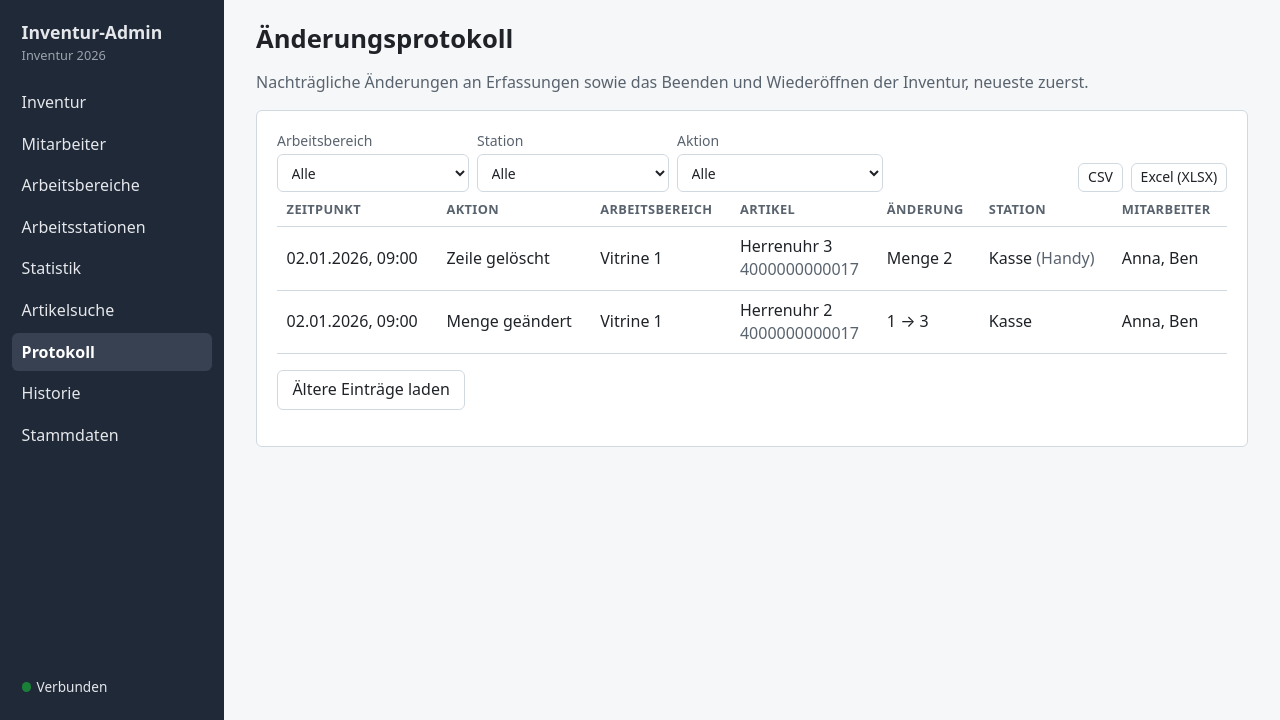
Test: audit log page › loads older entries on request
Click the button "Ältere Einträge laden": [371, 390] box [277,370,465,410]
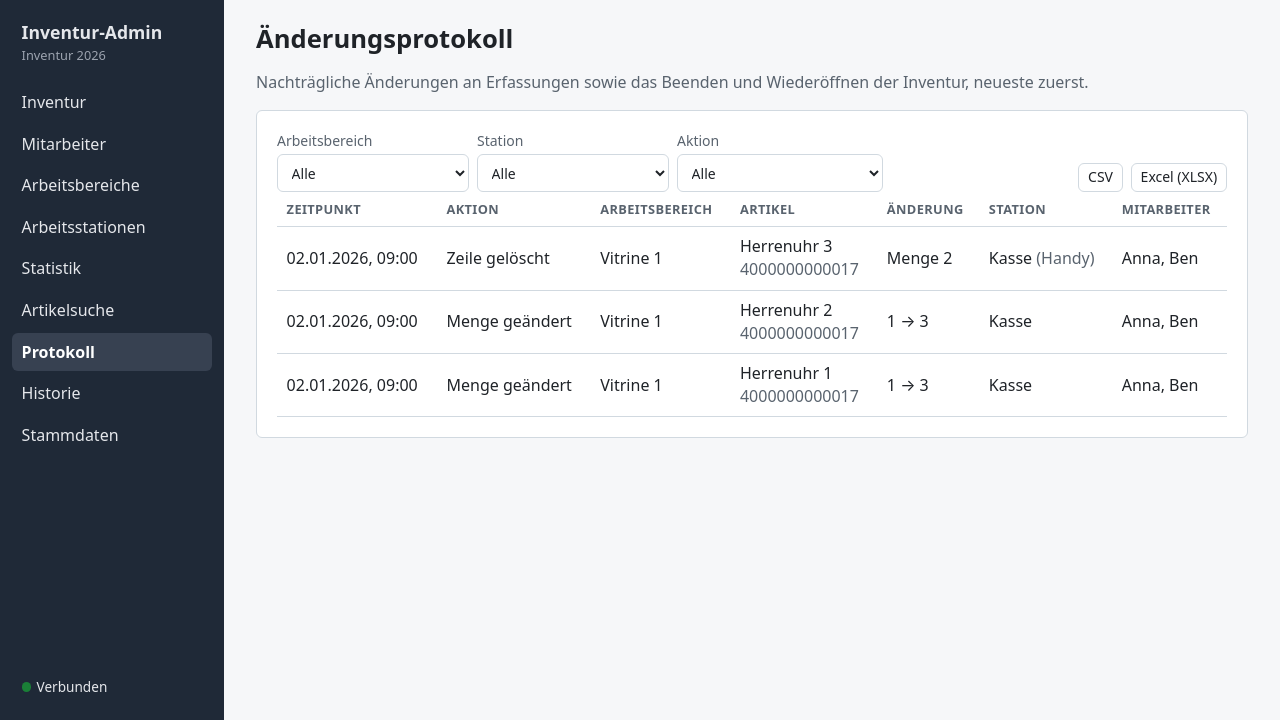
Now the text "Herrenuhr 1" is shown, box [740,362,832,384]
Now the button "Ältere Einträge laden" is gone
